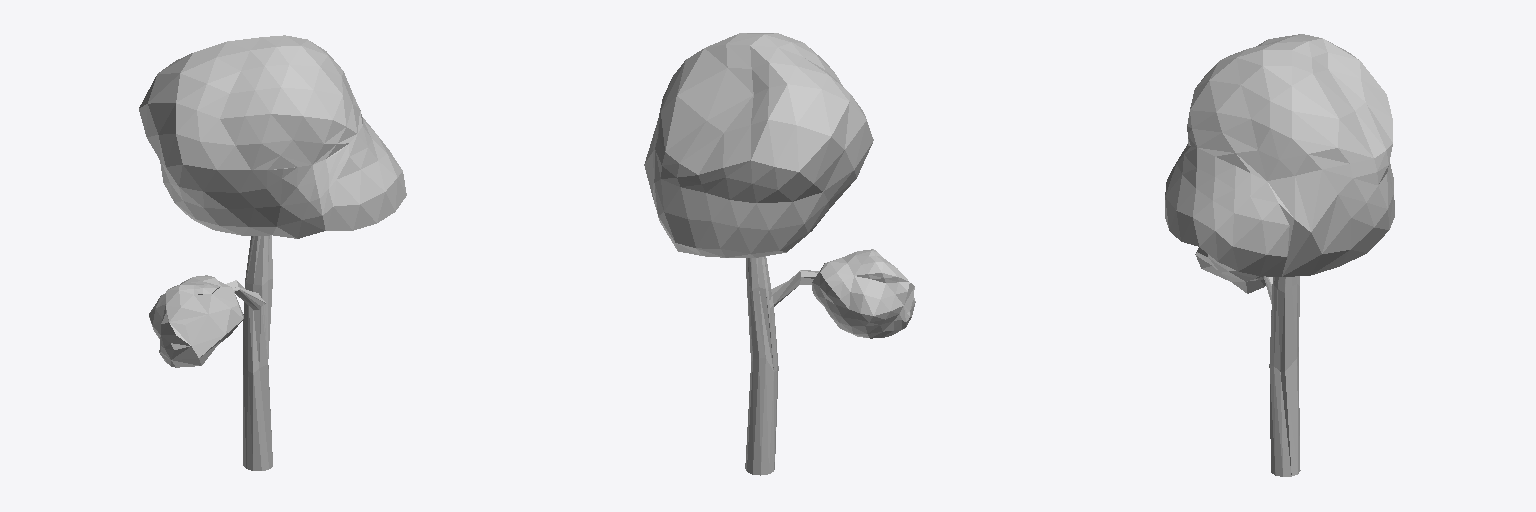
File: Tree.obj
3 renders of one model, left to right at view 1: azimuth 30°, elevation 25°; view 2: azimuth 150°, elevation 25°; view 3: azimuth 270°, elevation 25°, orthographic.
Visible parts, largest first — view 1: Icosphere.001; view 2: Icosphere.001; view 3: Icosphere.001.
Boxes of the visible parts, <box> form: Icosphere.001: <box>139,35,406,470</box>; Icosphere.001: <box>644,33,915,475</box>; Icosphere.001: <box>1165,34,1394,476</box>.
Size of the model in its own units: 2.73 by 4.66 by 2.29.